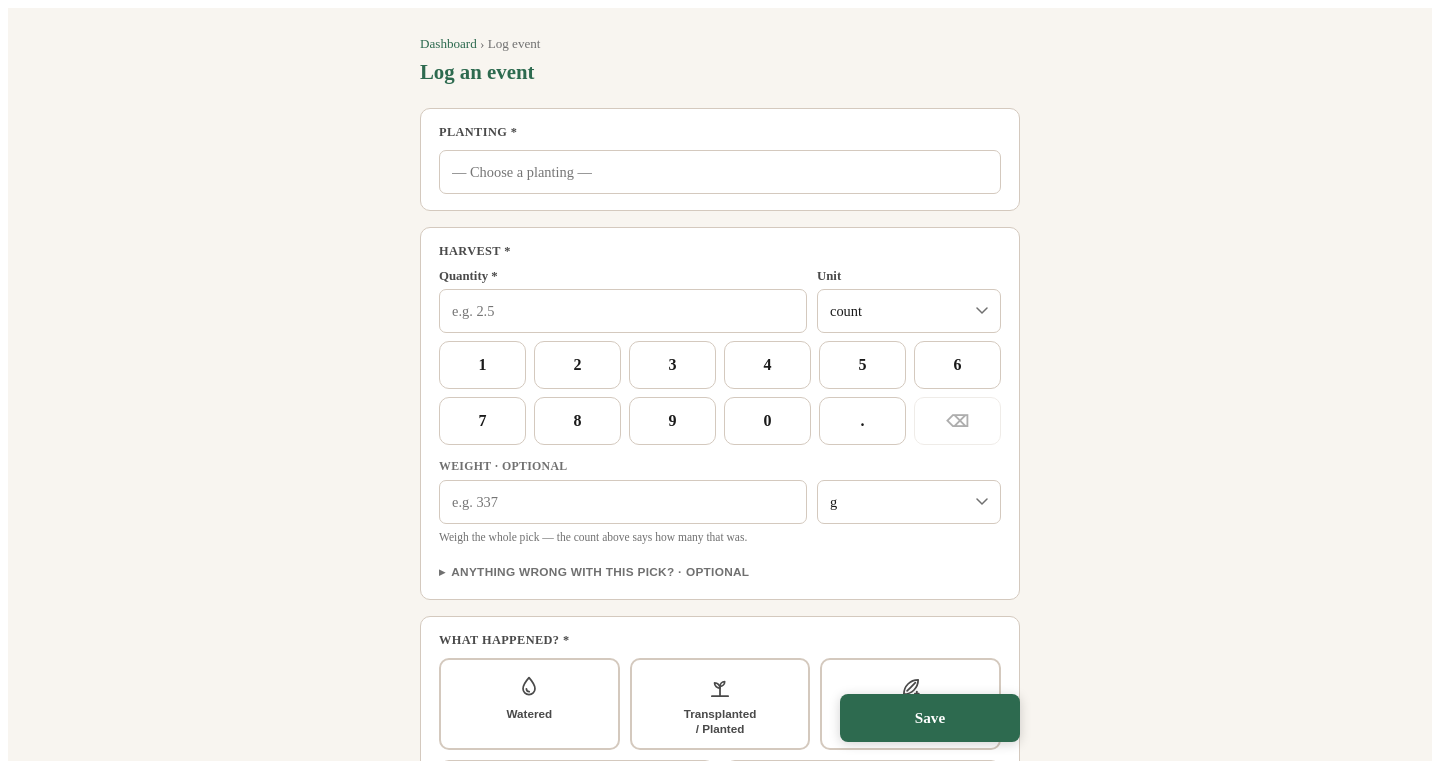
EventNew — harvest quantity pad (V4-QUICKHITRANGE-001) › the . key builds a decimal and then disables itself
What coordinates should you click on to do the following:
click the button with test id "qty-chip-2"
I would click on:
 (578, 365)
Its box is [534,341,621,389].
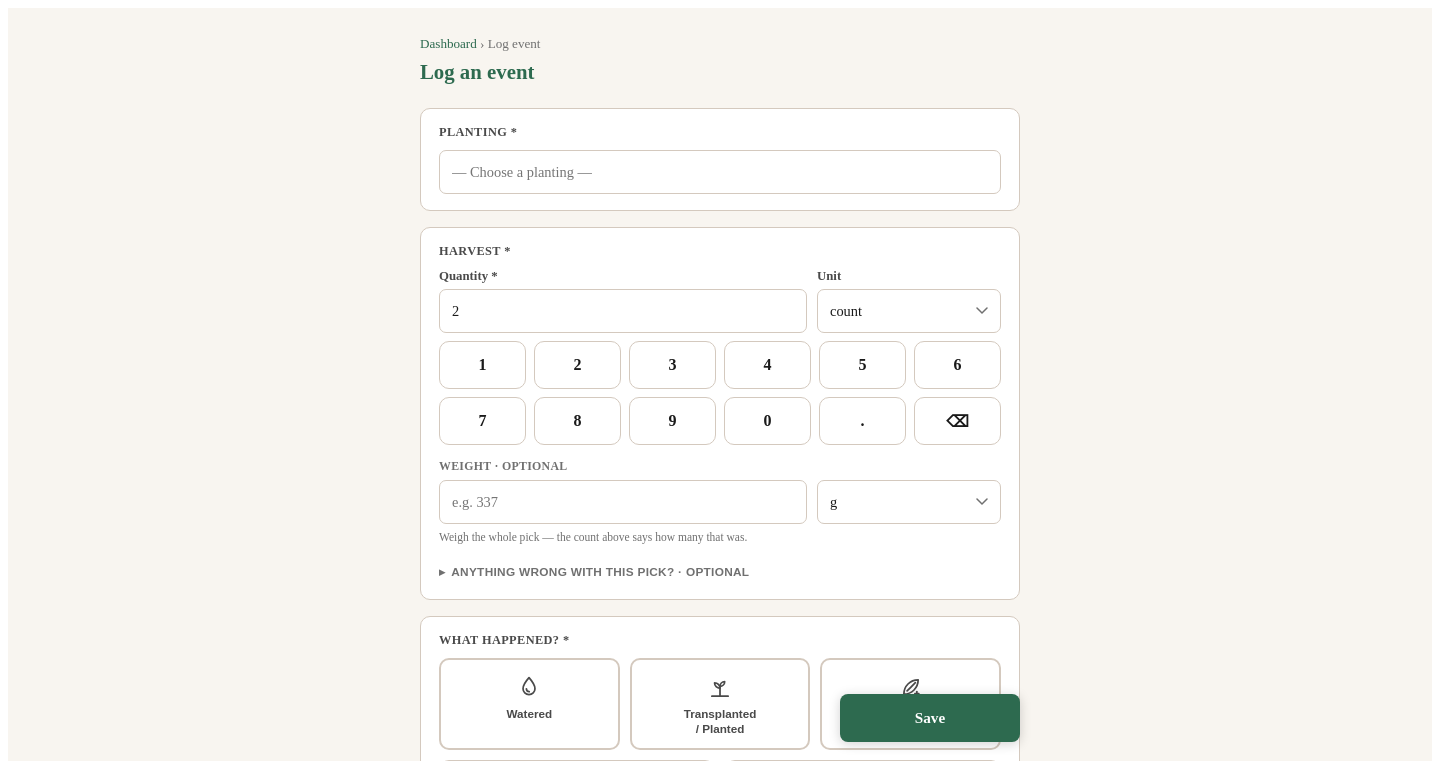
What coordinates should you click on to do the following:
click the button with test id "qty-chip-dot"
I would click on:
 (862, 421)
Its box is [819,397,906,445].
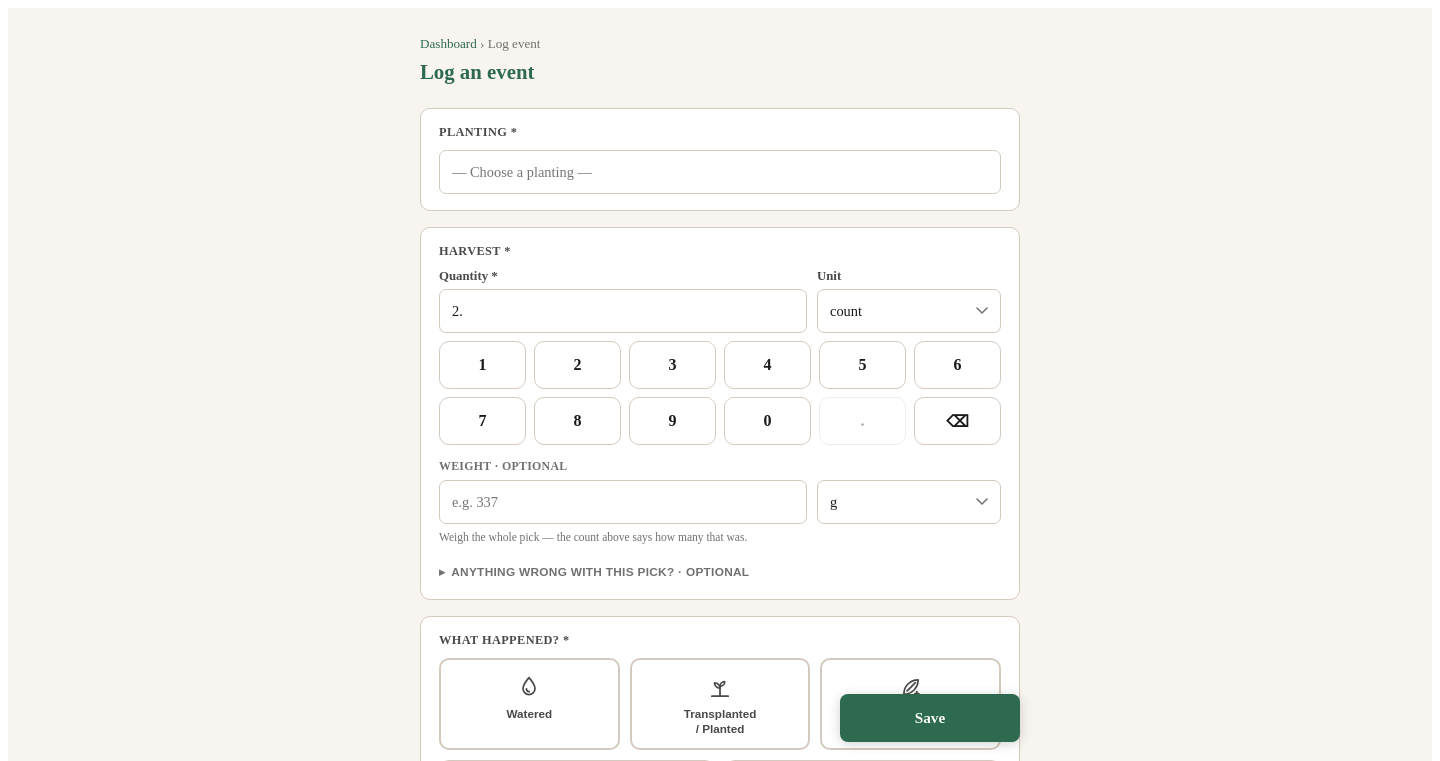
What coordinates should you click on to do the following:
click the button with test id "qty-chip-5"
I would click on:
 (862, 365)
Its box is [819,341,906,389].
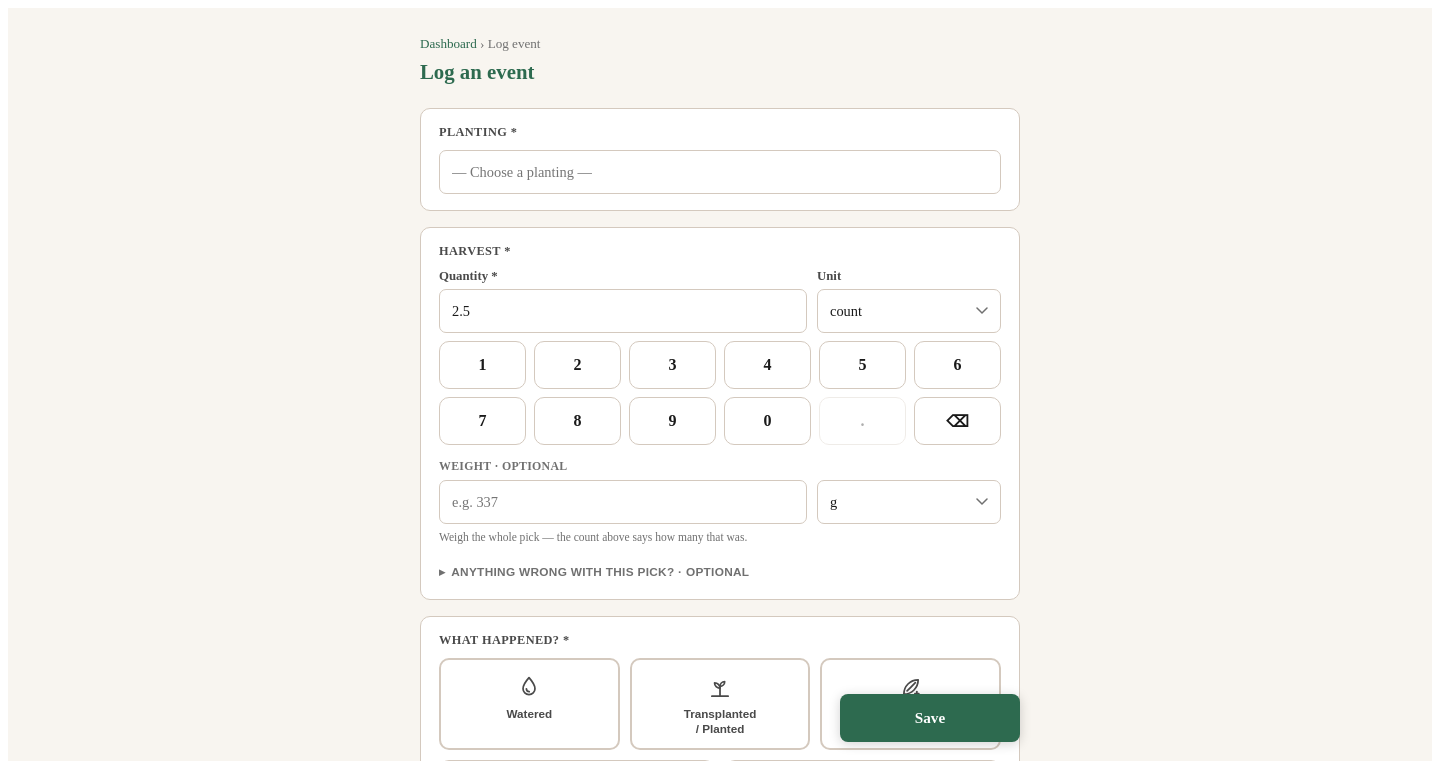
Expected: the button with test id "qty-chip-dot" is disabled, [819,397,906,445]
Expected: the field named "Harvest quantity" holds "2.5", [439,289,807,333]
